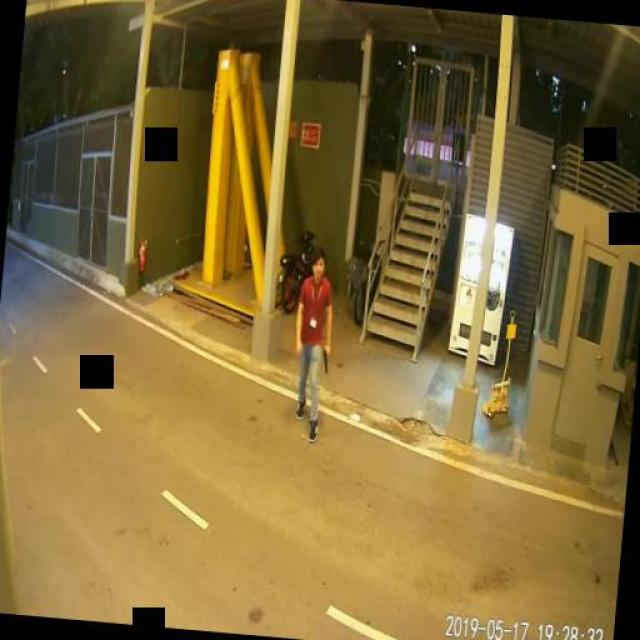gun: (321, 348, 330, 372)
